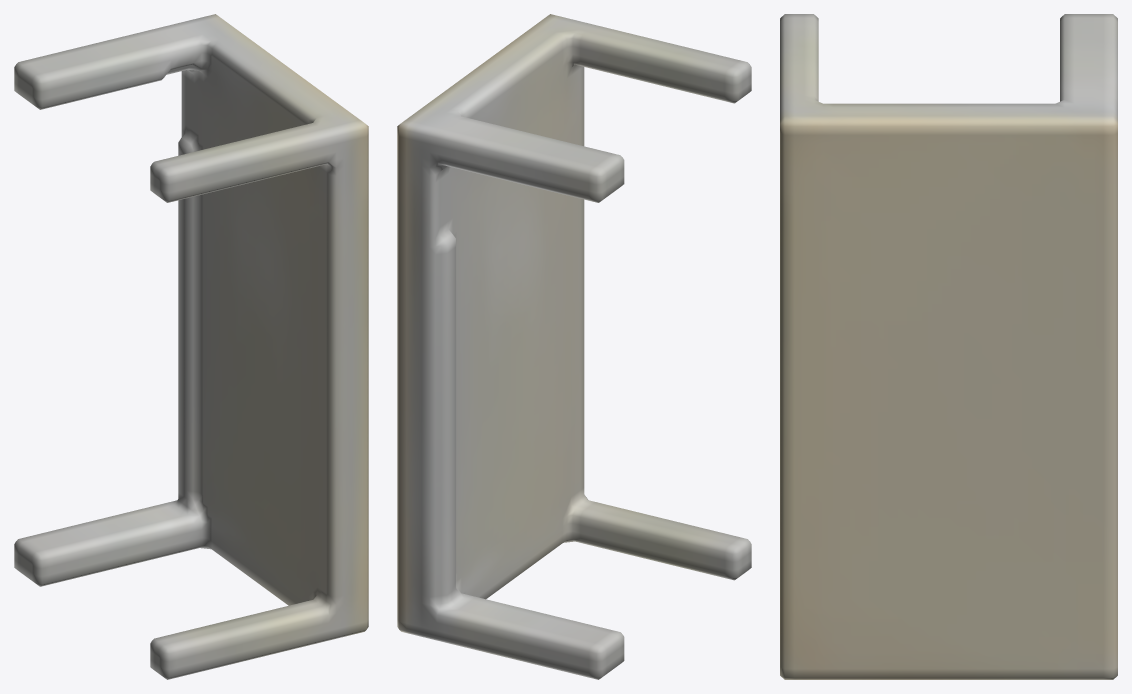
Rendered from Rectangular grey table with four legs and a smooth.glb.
3 views of the same model, side by side, from view 1: azimuth 30°, elevation 25°; view 2: azimuth 150°, elevation 25°; view 3: azimuth 270°, elevation 25° (orthographic). The views are drawn at different scales.
Visible parts, largest first — view 1: Rectangular grey table with four legs and a smooth; view 2: Rectangular grey table with four legs and a smooth; view 3: Rectangular grey table with four legs and a smooth.
Part boxes in pixels (<box>): Rectangular grey table with four legs and a smooth: <box>14,14,368,679</box>; Rectangular grey table with four legs and a smooth: <box>397,14,751,679</box>; Rectangular grey table with four legs and a smooth: <box>780,14,1117,679</box>.
Bounding box in the file's own units: 27 × 64 × 35.
